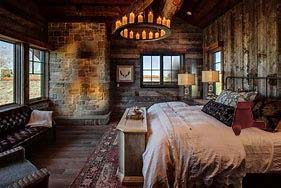copymove: (174, 70, 197, 99)
removal: (64, 29, 98, 104)
spliced: (229, 101, 265, 135)
